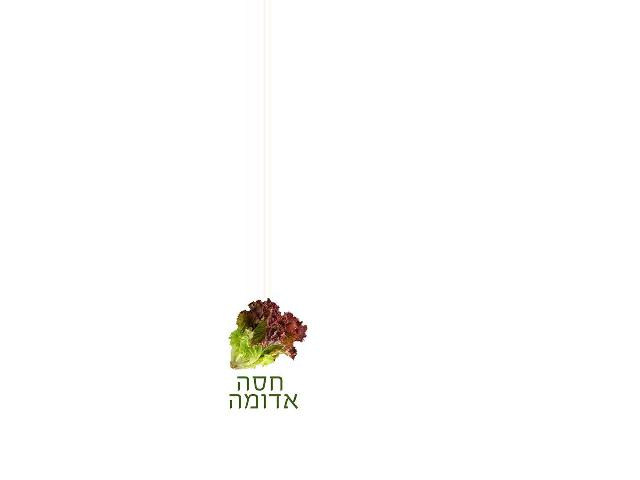lettuce: (221, 298, 308, 372)
